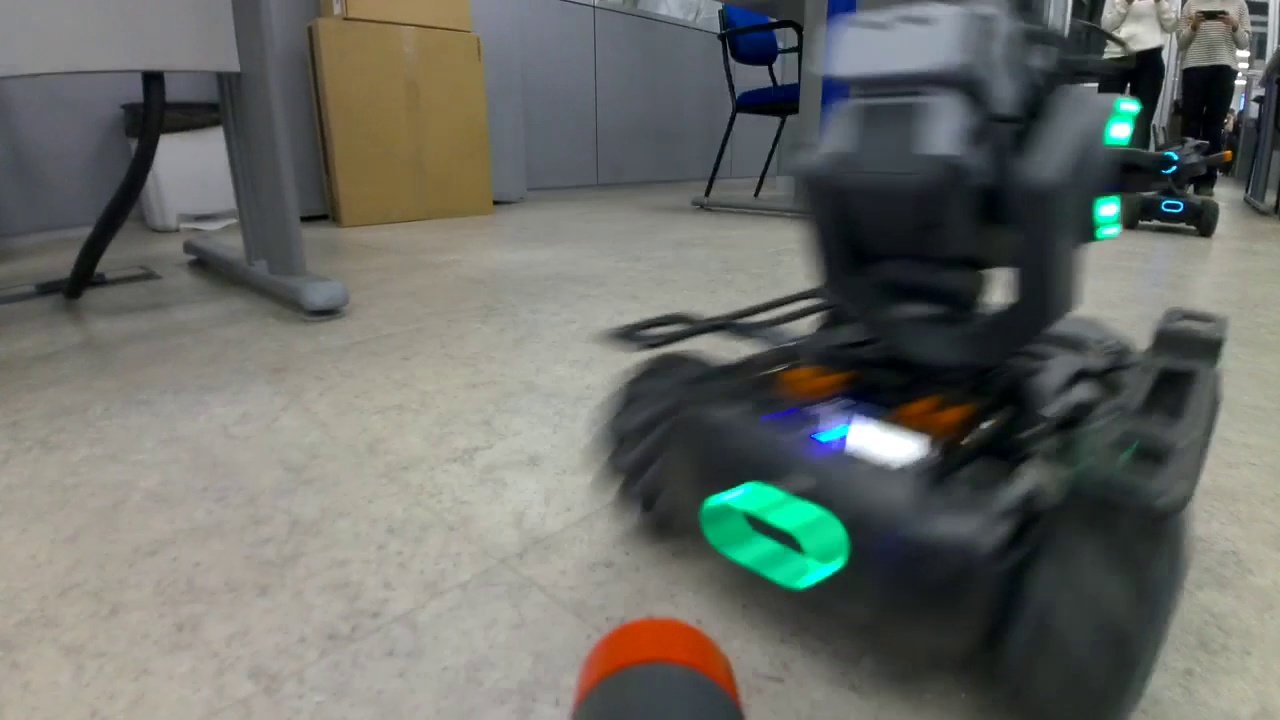robot: (610, 14, 1230, 710), (1130, 135, 1223, 240)
